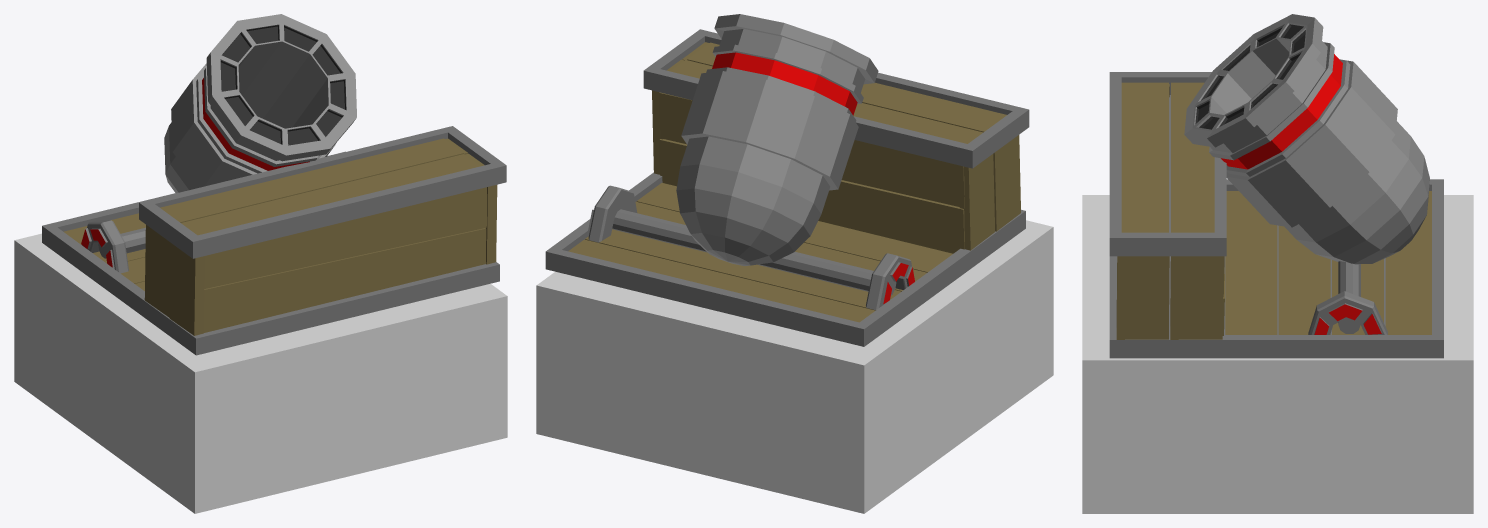
The model's file is MortarTowerLvl2.fbx.
3 renders of one model, left to right at view 1: azimuth 30°, elevation 25°; view 2: azimuth 150°, elevation 25°; view 3: azimuth 270°, elevation 25°, orthographic. The views are drawn at different scales.
Parts seen in each view (by area): view 1: MortarTowerLvl2; view 2: MortarTowerLvl2; view 3: MortarTowerLvl2.
Part boxes in pixels (bbox=[...]): MortarTowerLvl2: bbox=[14, 14, 507, 513]; MortarTowerLvl2: bbox=[536, 14, 1053, 513]; MortarTowerLvl2: bbox=[1082, 14, 1473, 513].
Bounding box in the file's own units: 4.15 × 4.63 × 4.
